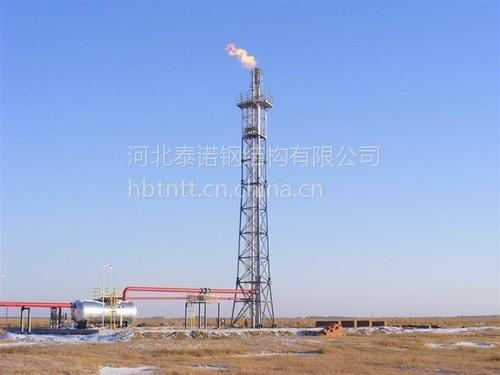fire: (224, 40, 257, 64), (322, 321, 345, 338)
